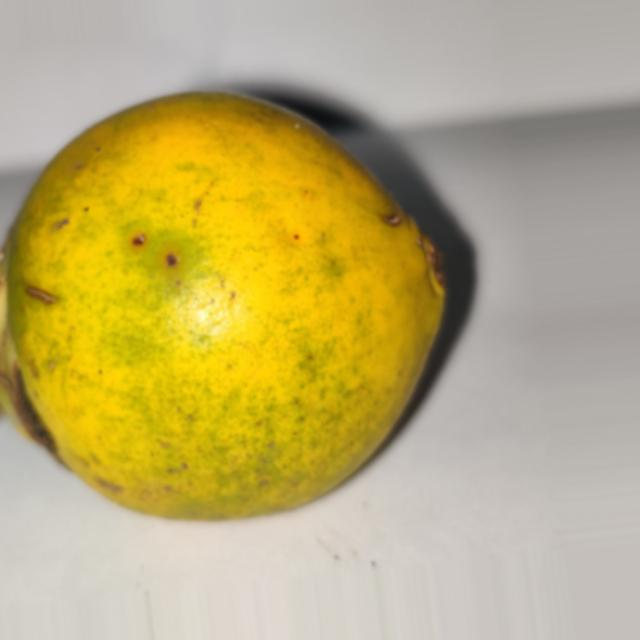damaged: (2, 93, 452, 523)
